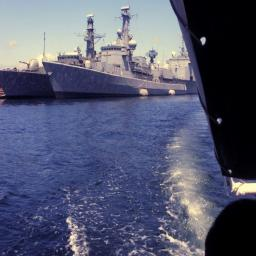Fragata: (42, 2, 191, 103)
